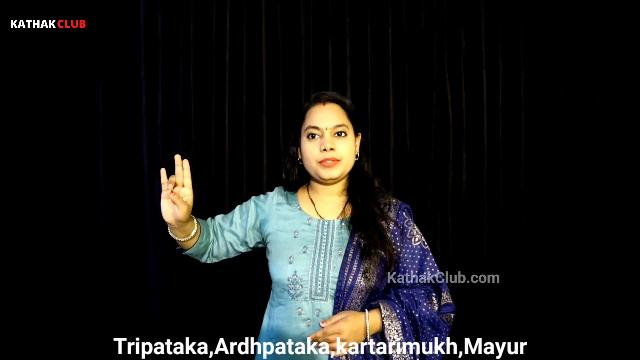mayur: (132, 132, 222, 276)
